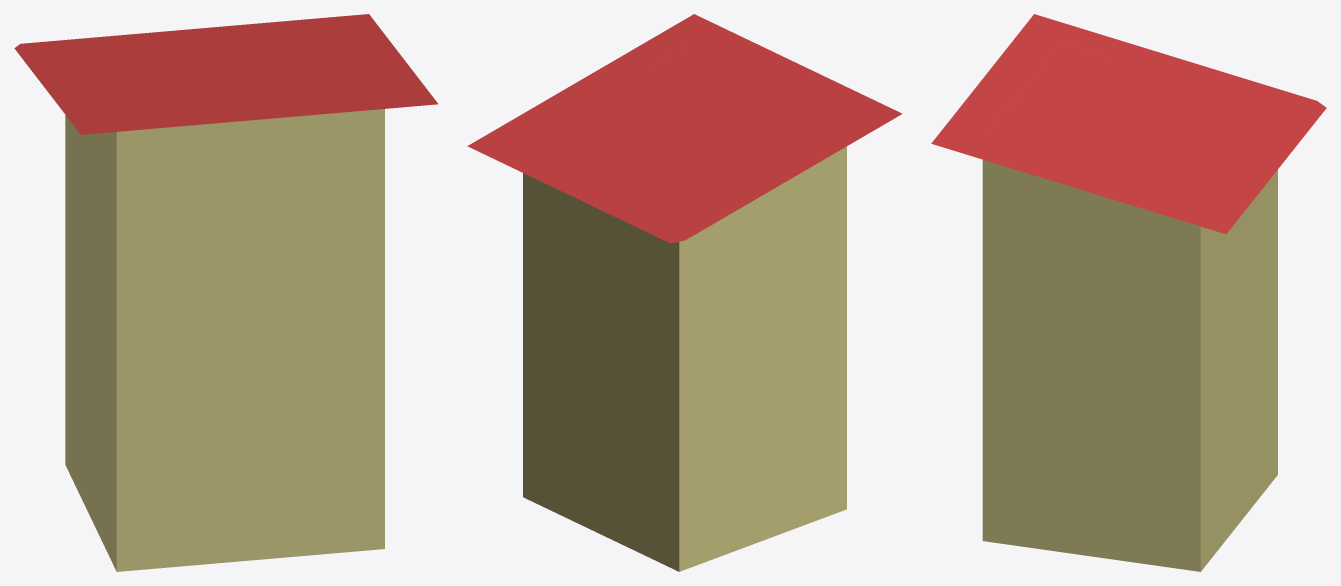
3 renders of one model, left to right at view 1: azimuth 30°, elevation 25°; view 2: azimuth 150°, elevation 25°; view 3: azimuth 270°, elevation 25°, orthographic. The views are drawn at different scales.
Bounding box in the file's own units: 5.01 × 4.88 × 5.55.
